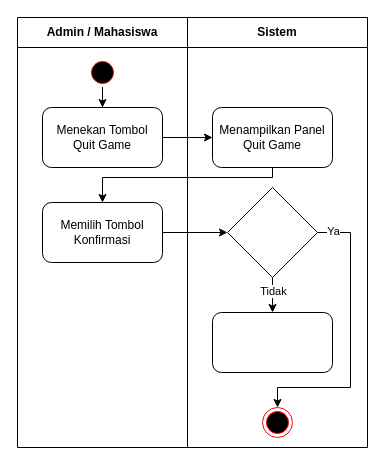
The diagram is 385 pixels wide and 465 high, and some of its shapes have lost their labels. The centre of each missing label's shape, as x and y in pixels:
"Menekan Tombol Quit Game?" goes at [272,232].
"Menutup Panel Quit Game" goes at [272,342].
